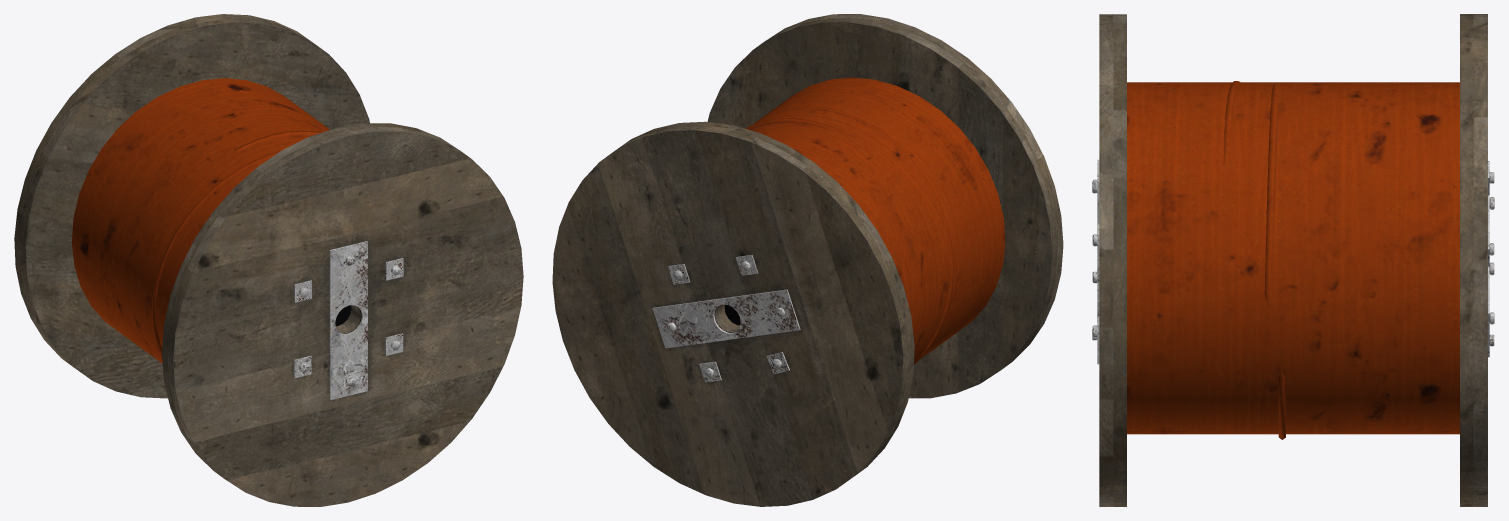
The model's file is SM_CableReel.glb.
The picture shows the model from 3 angles, left to right: view 1: azimuth 30°, elevation 25°; view 2: azimuth 150°, elevation 25°; view 3: azimuth 270°, elevation 25°; orthographic projection. The views are drawn at different scales.
Visible parts, largest first — view 1: SM_CableReel; view 2: SM_CableReel; view 3: SM_CableReel.
Boxes of the visible parts, left/top/right/bottom form: SM_CableReel: left=14, top=14, right=523, bottom=506; SM_CableReel: left=552, top=14, right=1063, bottom=506; SM_CableReel: left=1092, top=14, right=1494, bottom=506.
Size of the model in its own units: 1.53 by 1.53 by 1.25.
Materials: 1 (1 with a texture image).
